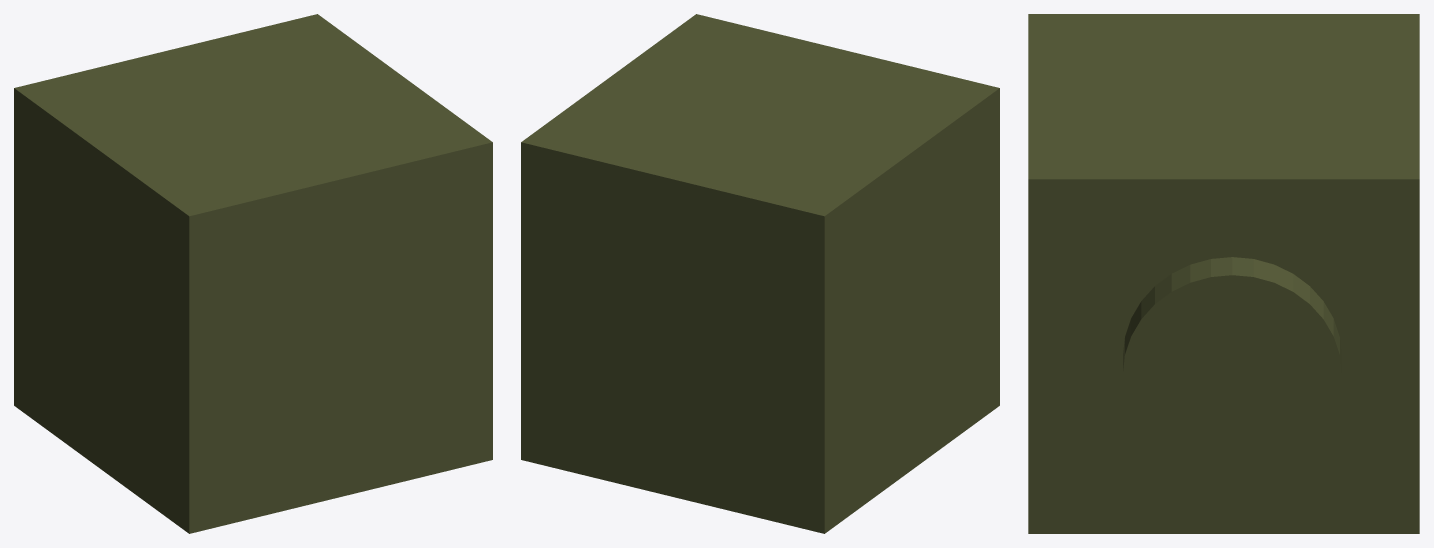
Rendered from cam_link.dae.
The picture shows the model from 3 angles, left to right: view 1: azimuth 30°, elevation 25°; view 2: azimuth 150°, elevation 25°; view 3: azimuth 270°, elevation 25°; orthographic projection. The views are drawn at different scales.
Parts seen in each view (by area): view 1: cam_link; view 2: cam_link; view 3: cam_link.
Part boxes in pixels (x1,y1,x2,y2): cam_link: [14, 14, 492, 533]; cam_link: [521, 14, 999, 533]; cam_link: [1028, 14, 1419, 533].
Size of the model in its own units: 0.2219 by 0.2 by 0.2.
